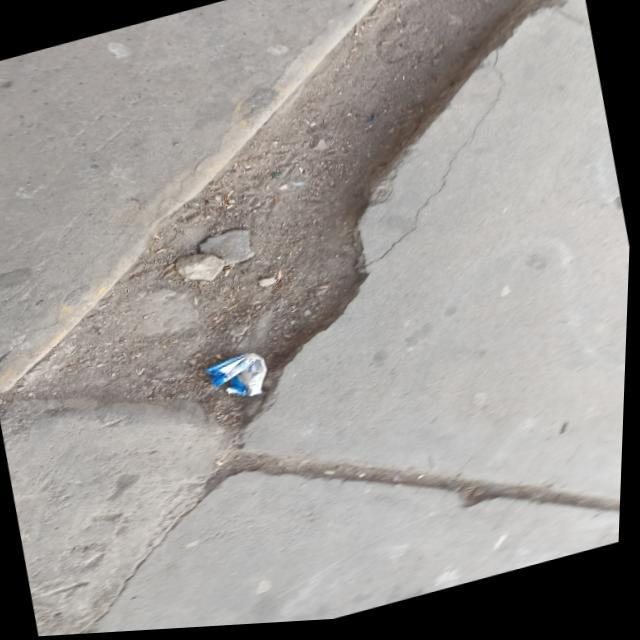hole: (12, 0, 577, 464)
